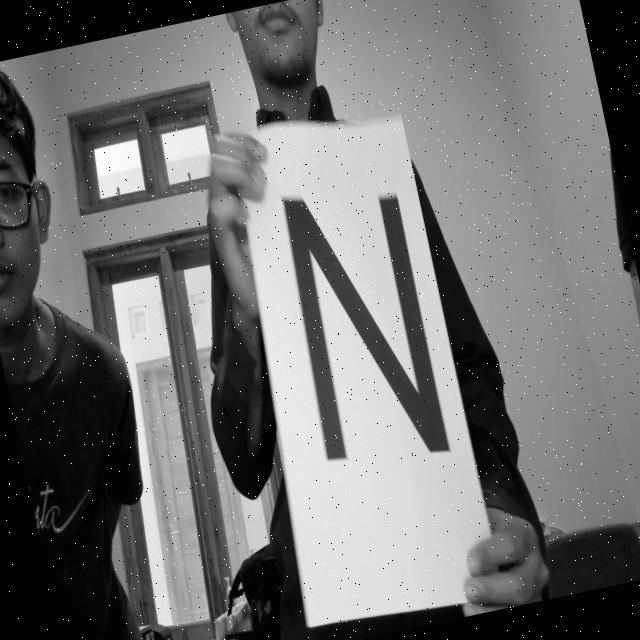n: (244, 160, 486, 500)
